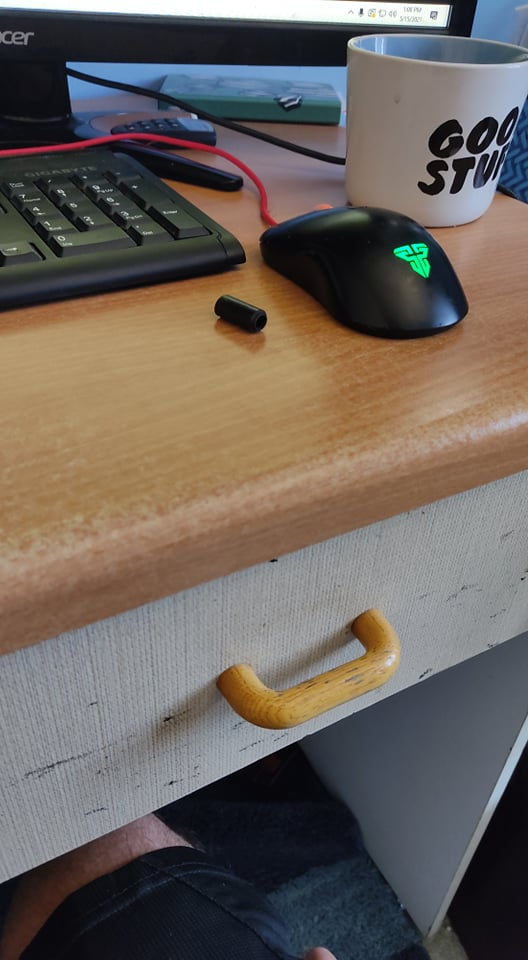black_bucking: (195, 284, 276, 346)
